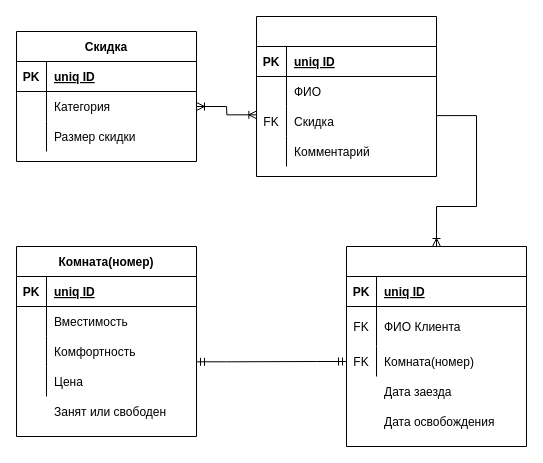
Image size: 543x463. Some labels were removed from this diagram. Here are the shapes that lost their labels. From the top down, the box of each, then its label:
(256, 16, 436, 176): Клиент
(346, 246, 526, 446): Бронь
